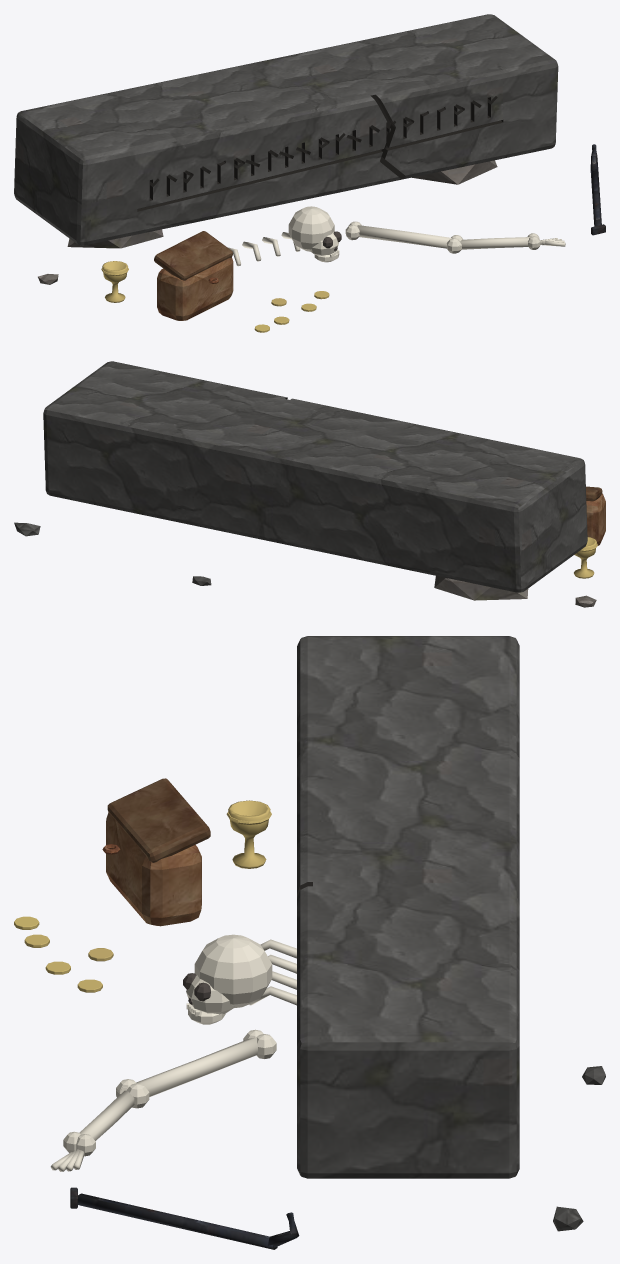
Rendered from th_robber_pinned.glb.
3 renders of one model, top to bottom at view 1: azimuth 30°, elevation 25°; view 2: azimuth 150°, elevation 25°; view 3: azimuth 270°, elevation 25°, orthographic. The views are drawn at different scales.
Parts seen in each view (by area): view 1: model; view 2: model; view 3: model.
Part boxes in pixels (left/top/right/bottom): model: left=14, top=14, right=605, bottom=332; model: left=14, top=361, right=605, bottom=607; model: left=14, top=636, right=605, bottom=1249.
Bounding box in the file's own units: 1.91 × 0.4512 × 1.12.
Materials: 17 (6 with a texture image).
